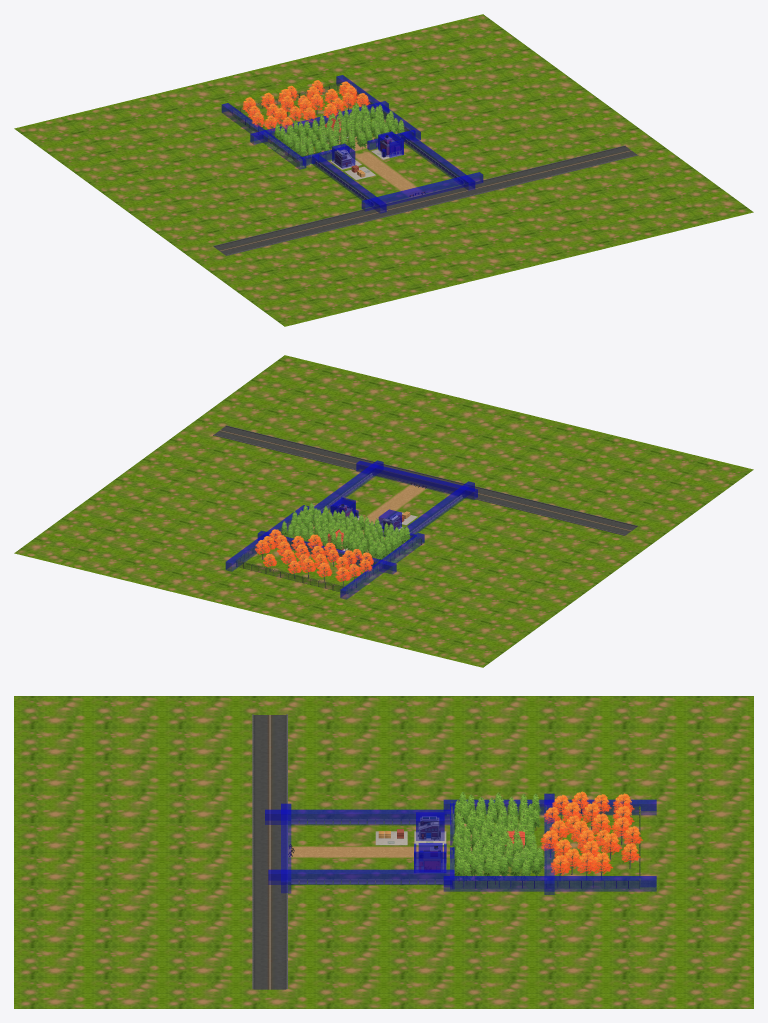
File: map.glb
3 views of the same model, one above another, from view 1: azimuth 30°, elevation 25°; view 2: azimuth 150°, elevation 25°; view 3: azimuth 270°, elevation 25° (orthographic). The views are drawn at different scales.
Parts seen in each view (by area): view 1: ground boottom, coliider.001, coliider.003, coliider, coliider.002, way1, long_road.004, long_road.002, long_road.003, long_road, long_road.006, long_road.007 (+5 smaller); view 2: ground boottom, coliider.001, coliider.003, coliider, coliider.002, coliider.004, way1, long_road.003, long_road.004, long_road.006, long_road.002, long_road.008 (+5 smaller); view 3: ground boottom, coliider.004, coliider.002, coliider, way1, coliider.003, long_road.002, long_road.006, long_road.007, long_road.001, long_road.004, long_road (+8 smaller).
Part boxes in pixels (bbox=[...]): ground boottom: bbox=[14, 14, 753, 326]; coliider.001: bbox=[361, 172, 483, 211]; coliider.003: bbox=[221, 103, 306, 169]; coliider: bbox=[312, 154, 386, 213]; coliider.002: bbox=[401, 131, 475, 190]; way1: bbox=[362, 159, 417, 190]; long_road.004: bbox=[579, 145, 638, 166]; long_road.002: bbox=[488, 168, 546, 188]; long_road.003: bbox=[533, 156, 592, 177]; long_road: bbox=[396, 190, 454, 211]; long_road.006: bbox=[305, 212, 362, 233]; long_road.007: bbox=[259, 223, 317, 244]; ground boottom: bbox=[14, 355, 753, 667]; coliider.001: bbox=[356, 460, 477, 499]; coliider.003: bbox=[340, 533, 424, 599]; coliider: bbox=[404, 481, 474, 534]; coliider.002: bbox=[314, 460, 383, 511]; coliider.004: bbox=[225, 505, 309, 571]; way1: bbox=[363, 491, 418, 522]; long_road.003: bbox=[259, 436, 317, 457]; long_road.004: bbox=[213, 425, 271, 446]; long_road.006: bbox=[488, 492, 546, 513]; long_road.002: bbox=[305, 448, 363, 468]; long_road.008: bbox=[579, 515, 637, 535]; ground boottom: bbox=[14, 696, 753, 1008]; coliider.004: bbox=[443, 876, 656, 891]; coliider.002: bbox=[268, 869, 454, 884]; coliider: bbox=[265, 809, 450, 824]; way1: bbox=[315, 846, 418, 858]; coliider.003: bbox=[443, 799, 656, 814]; long_road.002: bbox=[252, 897, 287, 928]; long_road.006: bbox=[252, 775, 287, 806]; long_road.007: bbox=[252, 744, 287, 775]; long_road.001: bbox=[252, 866, 287, 897]; long_road.004: bbox=[252, 958, 287, 989]; long_road: bbox=[252, 836, 287, 866].
Size of what is drawn, in the model's own units: 249 by 14.1 by 249.
33 materials, 32 textured.
